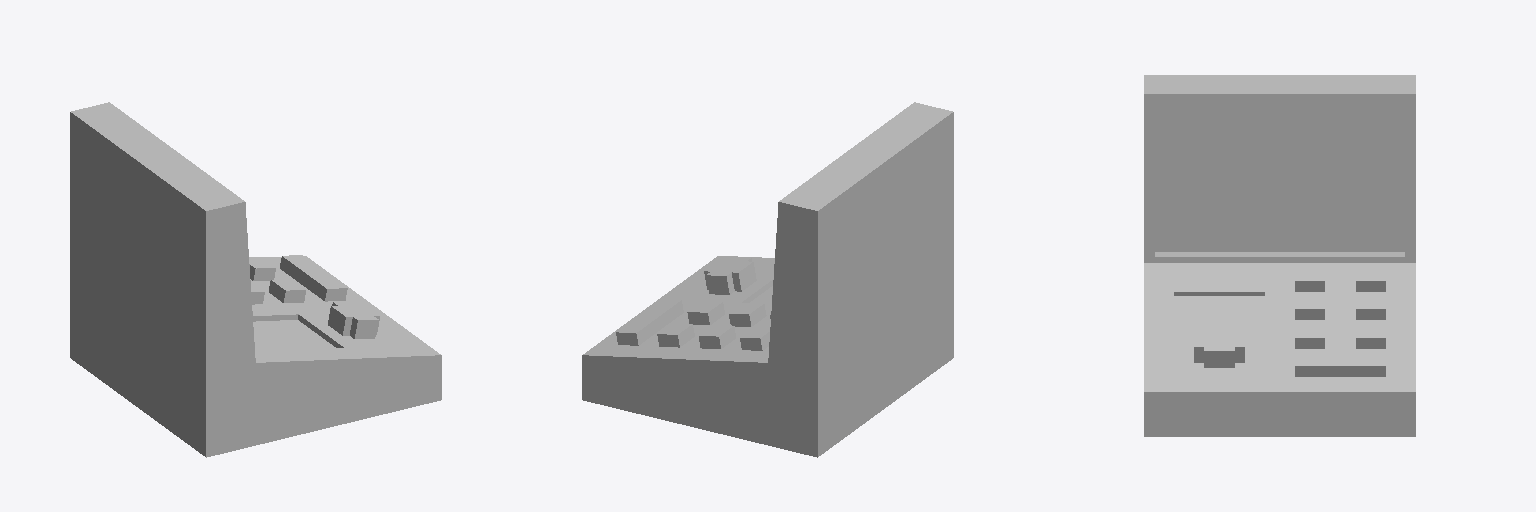
File: commandblock.obj
3 renders of one model, left to right at view 1: azimuth 30°, elevation 25°; view 2: azimuth 150°, elevation 25°; view 3: azimuth 270°, elevation 25°, orthographic.
Visible parts, largest first — view 1: Cube; view 2: Cube; view 3: Cube.
Part boxes in pixels (x1,y1,x2,y2): Cube: (70,102,441,457); Cube: (582,102,953,457); Cube: (1144,75,1415,436).
Size of the model in its own units: 2 by 2 by 2.